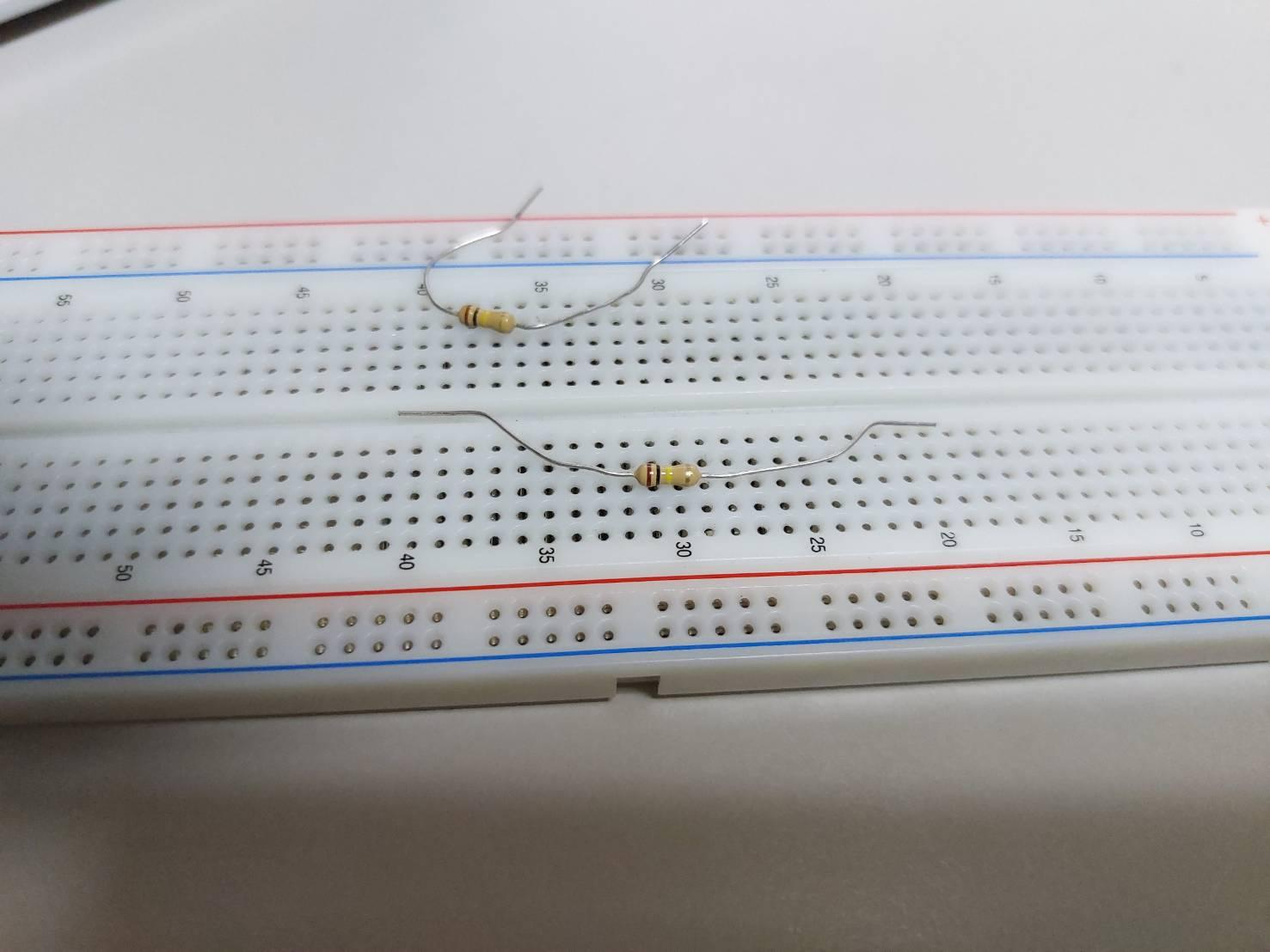resistor: (456, 302, 514, 334), (636, 463, 702, 488)
